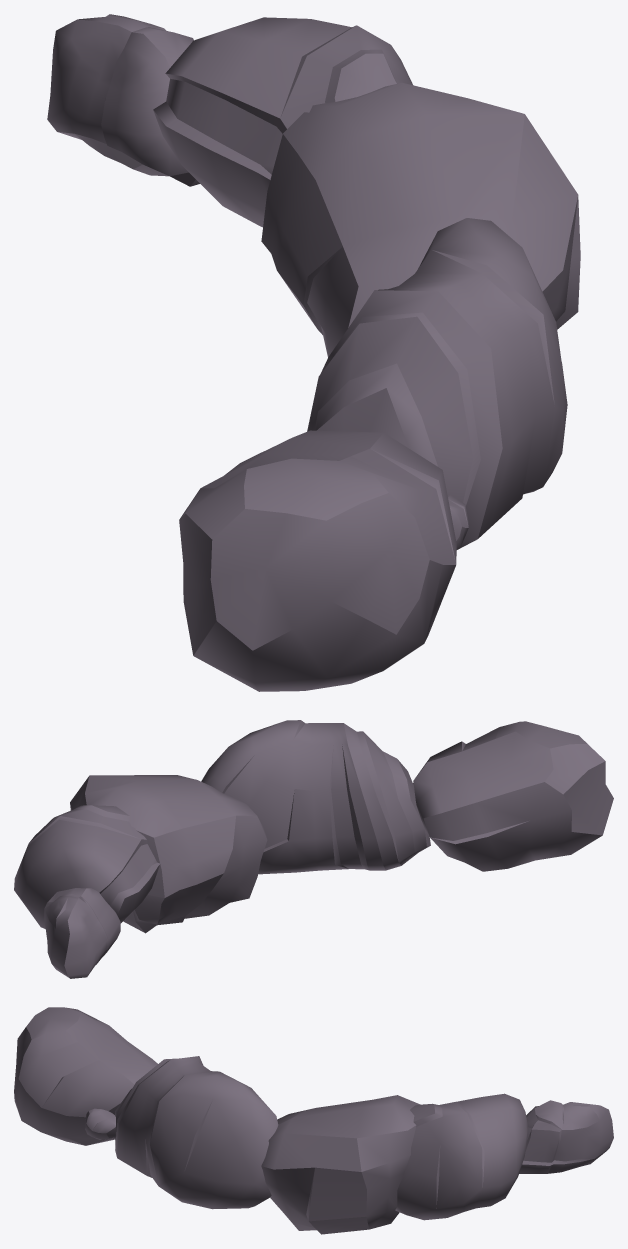
The model's file is P_stone_08_LD.fbx.
3 renders of one model, top to bottom at view 1: azimuth 30°, elevation 25°; view 2: azimuth 150°, elevation 25°; view 3: azimuth 270°, elevation 25°, orthographic. The views are drawn at different scales.
Visible parts, largest first — view 1: P_stone_08; view 2: P_stone_08; view 3: P_stone_08.
Part boxes in pixels (box(x1,y1,x2,y2)): P_stone_08: box(47, 14, 580, 691); P_stone_08: box(14, 720, 613, 978); P_stone_08: box(14, 1007, 613, 1234).
Size of the model in its own units: 368 by 147 by 580.
1 material, 1 textured.
